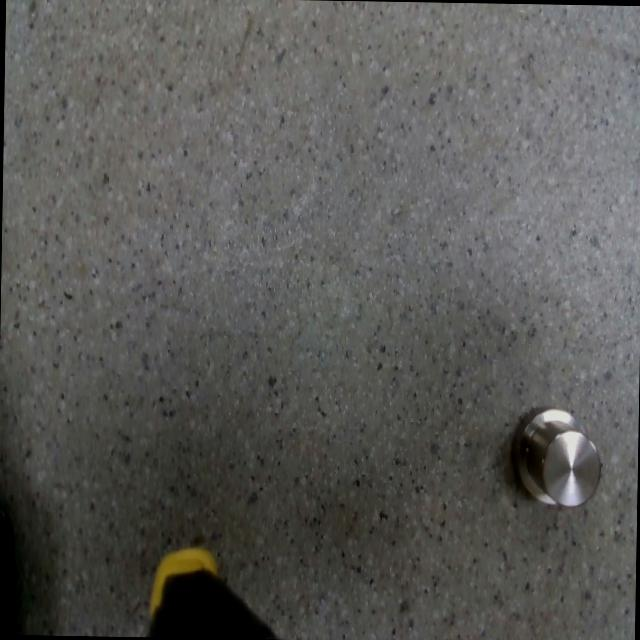sensor: (512, 404, 604, 508)
